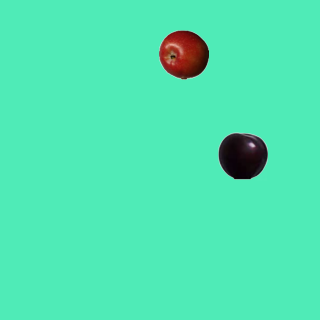Apple Braeburn: (158, 29, 208, 79)
Cherry Wax Black: (217, 130, 267, 180)
